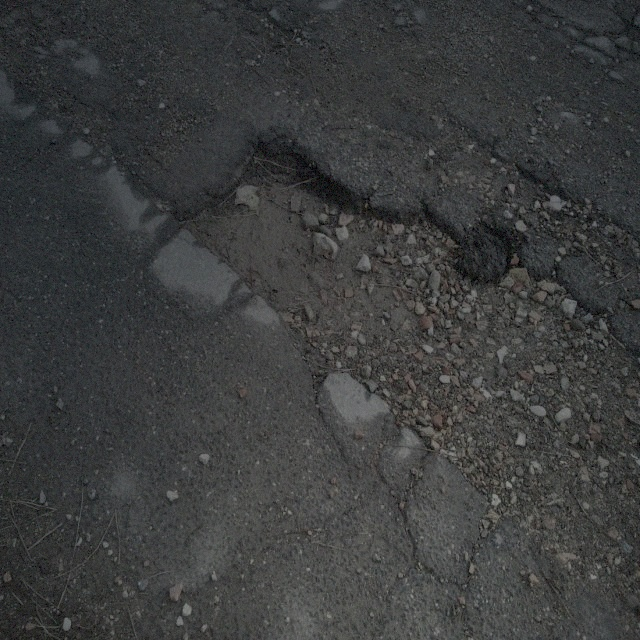pothole: (176, 104, 458, 413)
